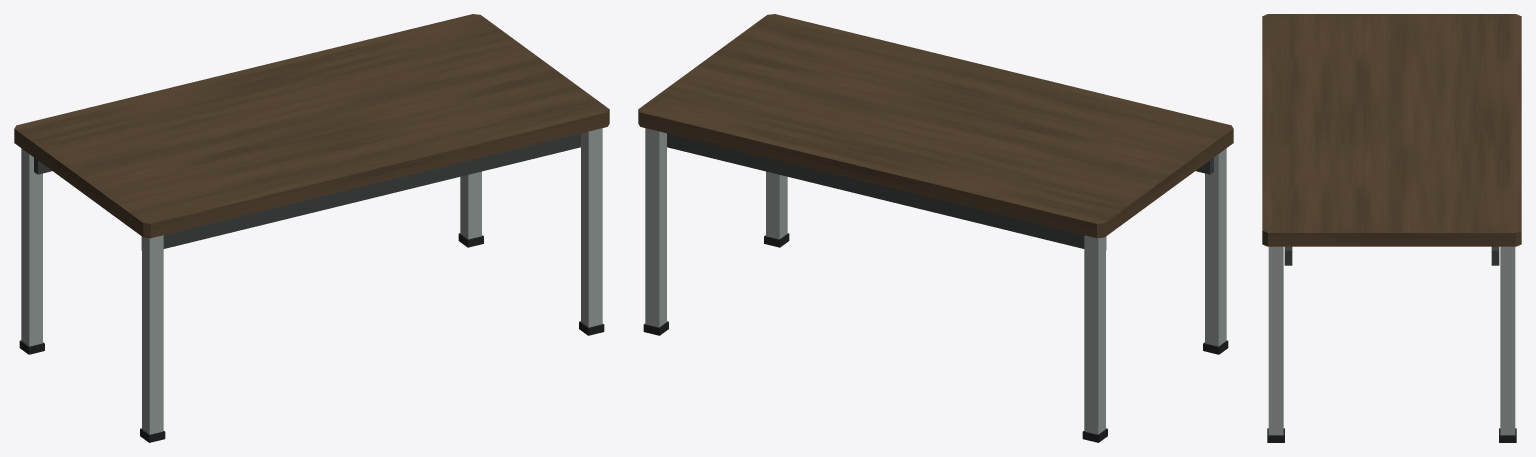
File: SM_ArchiveProps_WorkTable_LOD2.fbx
The picture shows the model from 3 angles, left to right: view 1: azimuth 30°, elevation 25°; view 2: azimuth 150°, elevation 25°; view 3: azimuth 270°, elevation 25°; orthographic projection. The views are drawn at different scales.
Parts seen in each view (by area): view 1: SM_ArchiveProps_WorkTable_LOD2; view 2: SM_ArchiveProps_WorkTable_LOD2; view 3: SM_ArchiveProps_WorkTable_LOD2.
Part boxes in pixels (x1,y1,x2,y2): SM_ArchiveProps_WorkTable_LOD2: (14,14,609,442); SM_ArchiveProps_WorkTable_LOD2: (638,14,1233,442); SM_ArchiveProps_WorkTable_LOD2: (1262,14,1521,442).
Bounding box in the file's own units: 1.7 × 0.85 × 0.77.
